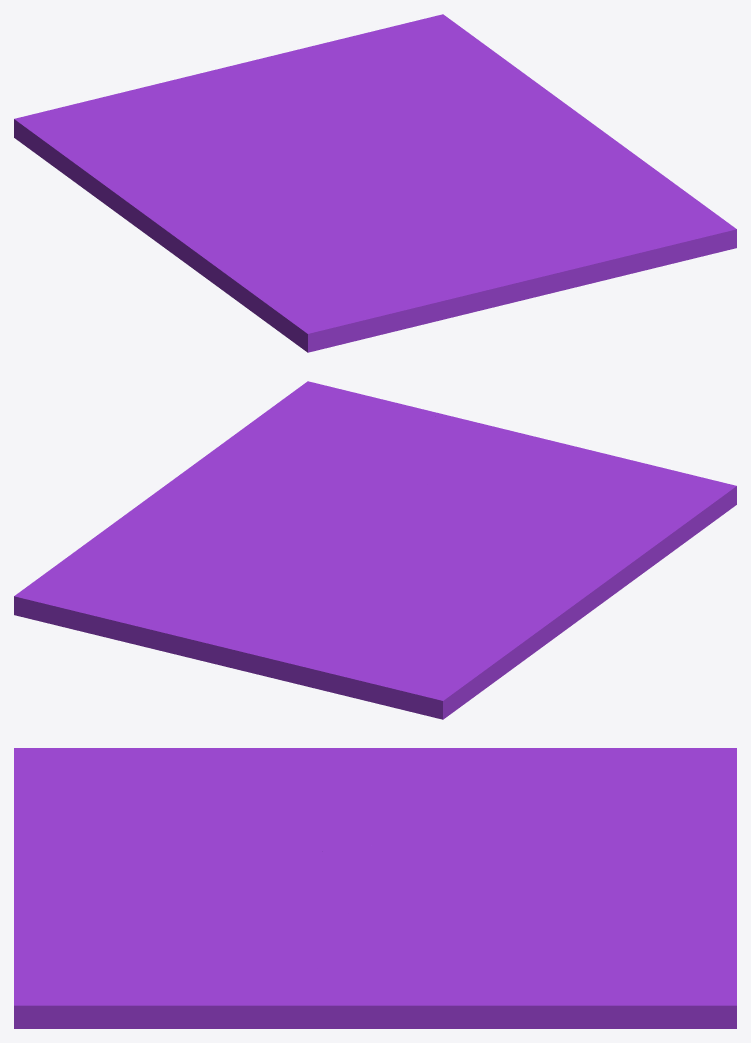
File: Glass_48_chunks.fbx
The picture shows the model from 3 angles, top to bottom: view 1: azimuth 30°, elevation 25°; view 2: azimuth 150°, elevation 25°; view 3: azimuth 270°, elevation 25°; orthographic projection. The views are drawn at different scales.
Visible parts, largest first — view 1: Glass_48_1, Glass_48_7, Glass_48_2, Glass_48_8, Glass_48_3, Glass_48_11, Glass_48_12, Glass_48_4, Glass_48_9, Glass_48_5, Glass_48_6; view 2: Glass_48_1, Glass_48_7, Glass_48_2, Glass_48_3, Glass_48_8, Glass_48_4, Glass_48_5, Glass_48_12, Glass_48_9, Glass_48_11, Glass_48_6; view 3: Glass_48_1, Glass_48_7, Glass_48_2, Glass_48_8, Glass_48_3, Glass_48_4, Glass_48_5, Glass_48_12, Glass_48_9, Glass_48_11, Glass_48_6.
Boxes of the visible parts, bbox=[...] form: Glass_48_1: bbox=[187, 14, 621, 176]; Glass_48_7: bbox=[411, 145, 736, 251]; Glass_48_2: bbox=[137, 168, 358, 326]; Glass_48_8: bbox=[272, 191, 473, 352]; Glass_48_3: bbox=[14, 97, 233, 227]; Glass_48_11: bbox=[406, 255, 619, 328]; Glass_48_12: bbox=[469, 227, 722, 276]; Glass_48_4: bbox=[103, 77, 270, 153]; Glass_48_9: bbox=[320, 231, 495, 349]; Glass_48_5: bbox=[228, 122, 372, 195]; Glass_48_6: bbox=[362, 172, 438, 204]; Glass_48_1: bbox=[14, 465, 381, 675]; Glass_48_7: bbox=[193, 381, 433, 529]; Glass_48_2: bbox=[427, 511, 701, 629]; Glass_48_3: bbox=[354, 595, 573, 719]; Glass_48_8: bbox=[407, 477, 736, 537]; Glass_48_4: bbox=[261, 605, 406, 702]; Glass_48_5: bbox=[321, 536, 434, 605]; Glass_48_12: bbox=[332, 387, 480, 478]; Glass_48_9: bbox=[446, 456, 700, 478]; Glass_48_11: bbox=[429, 411, 633, 460]; Glass_48_6: bbox=[354, 502, 416, 540]; Glass_48_1: bbox=[296, 851, 736, 1028]; Glass_48_7: bbox=[14, 886, 358, 1028]; Glass_48_2: bbox=[101, 748, 475, 856]; Glass_48_8: bbox=[14, 748, 340, 888]; Glass_48_3: bbox=[415, 748, 736, 822]; Glass_48_4: bbox=[518, 801, 736, 861]; Glass_48_5: bbox=[332, 816, 570, 874]; Glass_48_12: bbox=[14, 881, 181, 990]; Glass_48_9: bbox=[14, 769, 174, 883]; Glass_48_11: bbox=[14, 809, 96, 932]; Glass_48_6: bbox=[258, 860, 370, 893].
Size of the model in its own units: 608 by 25.44 by 721.
